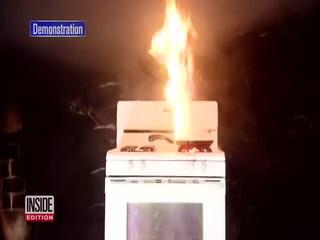Fire: (146, 1, 198, 142)
